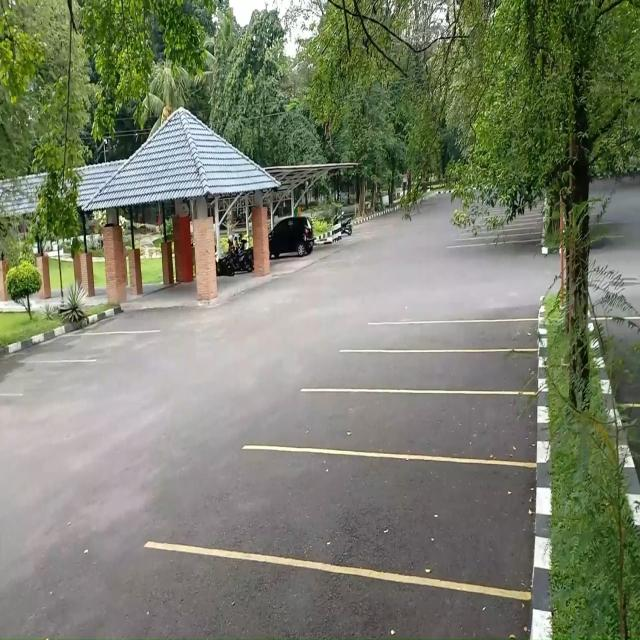empty: (239, 449, 534, 580), (304, 388, 536, 466), (351, 348, 538, 396), (368, 321, 537, 352), (45, 330, 137, 363)
